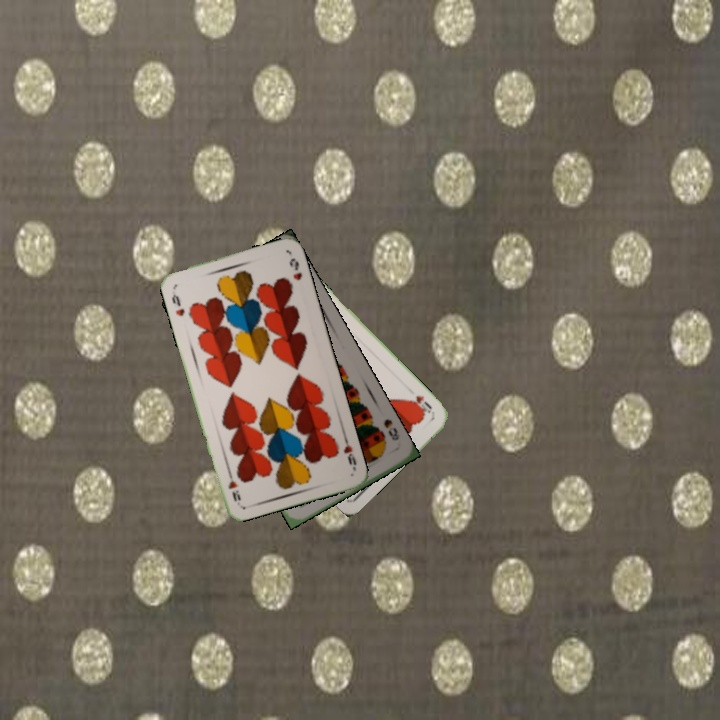H9: (340, 432, 359, 472), (168, 290, 187, 319)
HO: (407, 391, 436, 417)
S8: (380, 415, 402, 443)
